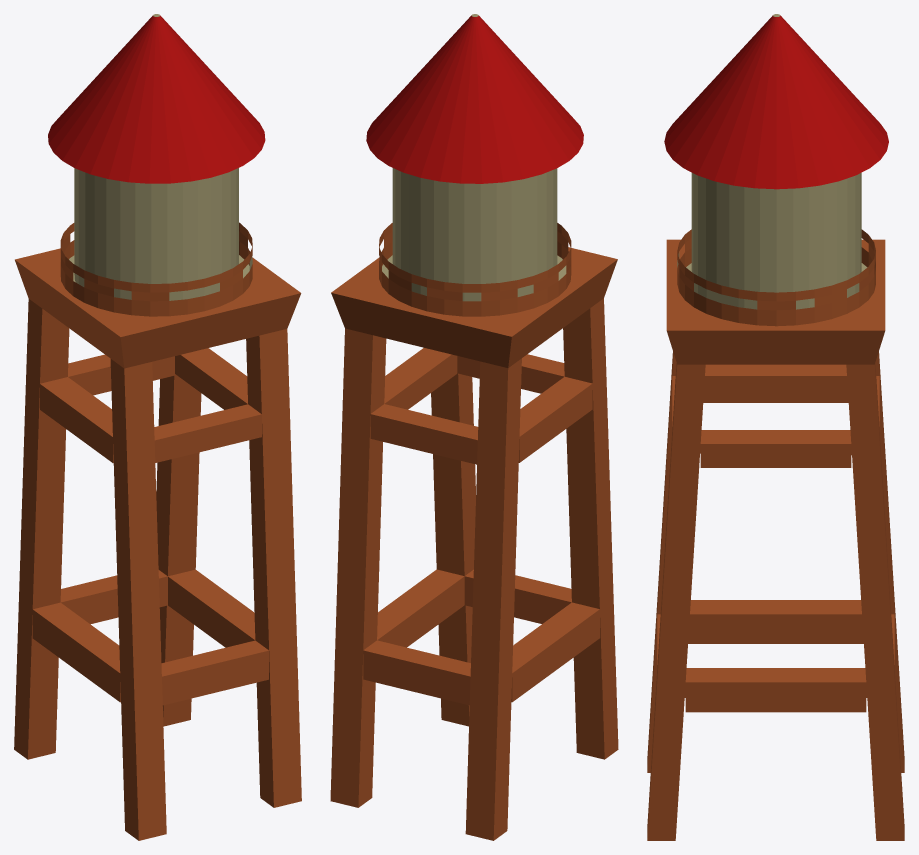
File: CaixaDAgua.fbx
The picture shows the model from 3 angles, left to right: view 1: azimuth 30°, elevation 25°; view 2: azimuth 150°, elevation 25°; view 3: azimuth 270°, elevation 25°; orthographic projection. The views are drawn at different scales.
Visible parts, largest first — view 1: Cubo.001, Círculo; view 2: Cubo.001, Círculo; view 3: Cubo.001, Círculo.
Part boxes in pixels (x1=…): Cubo.001: x1=14, y1=248, x2=301, y2=840; Círculo: x1=48, y1=14, x2=265, y2=316; Cubo.001: x1=330, y1=247, x2=618, y2=840; Círculo: x1=366, y1=14, x2=583, y2=316; Cubo.001: x1=647, y1=239, x2=904, y2=840; Círculo: x1=664, y1=14, x2=888, y2=326.
Size of the model in its own units: 1511 by 5814 by 1730.
